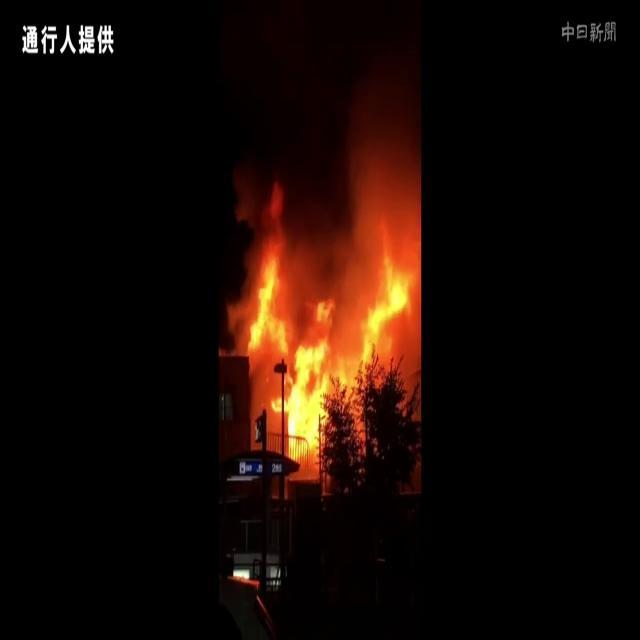Fire: (234, 204, 421, 461)
